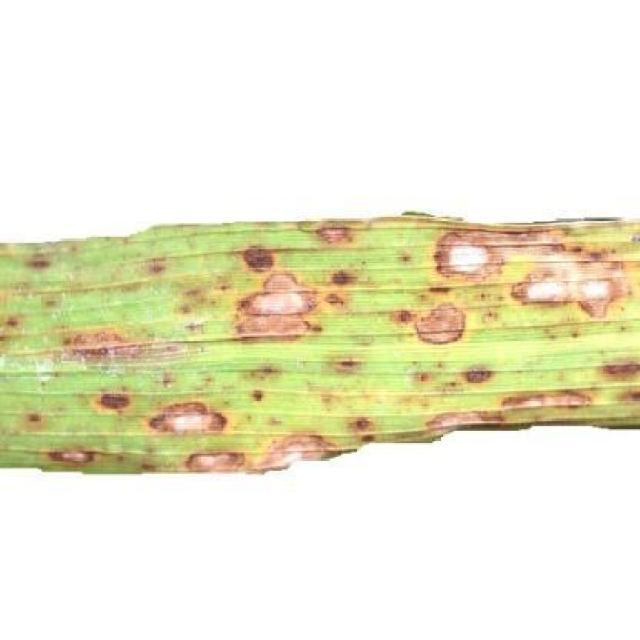Bacterial_Leaf_Blight: (500, 237, 638, 315), (418, 385, 598, 443), (227, 251, 336, 337), (421, 208, 510, 282), (396, 282, 486, 355), (42, 438, 166, 482), (258, 416, 347, 472), (143, 390, 234, 436), (186, 435, 251, 474), (40, 438, 98, 473), (310, 226, 358, 245)
Leaf_Blast: (35, 247, 238, 316), (45, 314, 197, 366), (248, 356, 340, 421), (85, 374, 143, 418), (0, 271, 32, 346), (0, 289, 26, 376), (594, 343, 640, 385), (1, 397, 50, 434), (236, 237, 282, 272), (348, 407, 380, 450), (457, 356, 498, 386), (17, 402, 51, 429), (331, 347, 364, 371), (23, 249, 57, 271), (626, 378, 640, 411)
